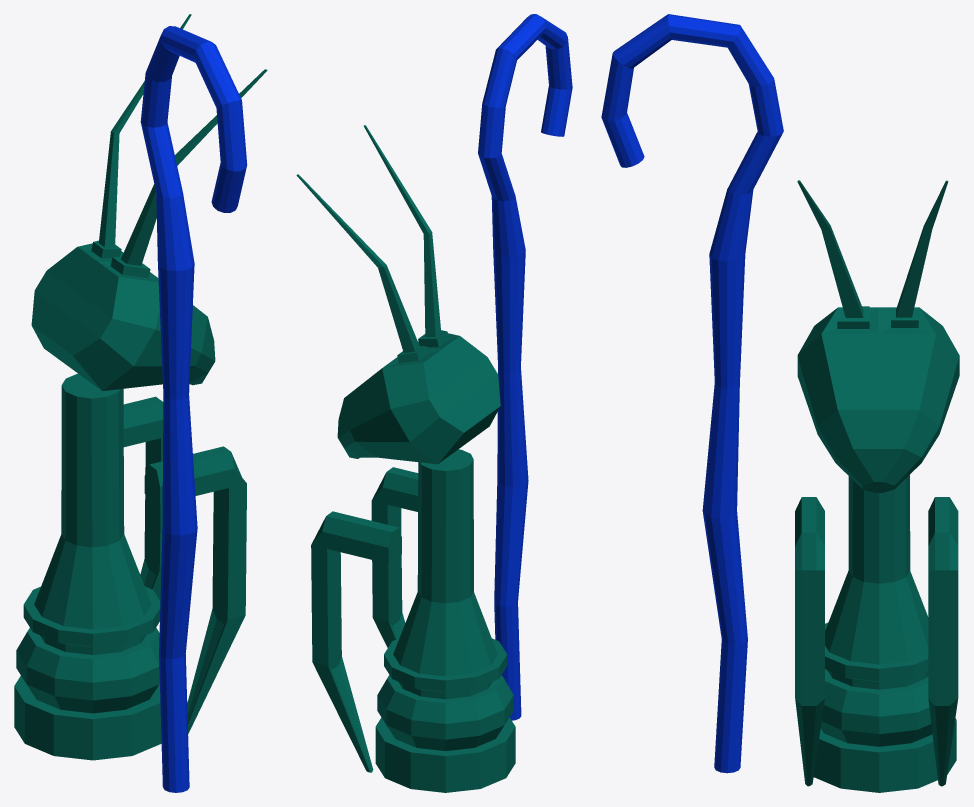
The model's file is BishopMantis.fbx.
3 renders of one model, left to right at view 1: azimuth 30°, elevation 25°; view 2: azimuth 150°, elevation 25°; view 3: azimuth 270°, elevation 25°, orthographic. The views are drawn at different scales.
Parts seen in each view (by area): view 1: Cube.001; view 2: Cube.001; view 3: Cube.001.
Boxes of the visible parts, x1,y1,x2,y2 form: Cube.001: (14, 14, 267, 792); Cube.001: (296, 14, 572, 792); Cube.001: (601, 14, 959, 792).
Bounding box in the file's own units: 45.1 × 165 × 71.01.
2 materials, 1 textured.
